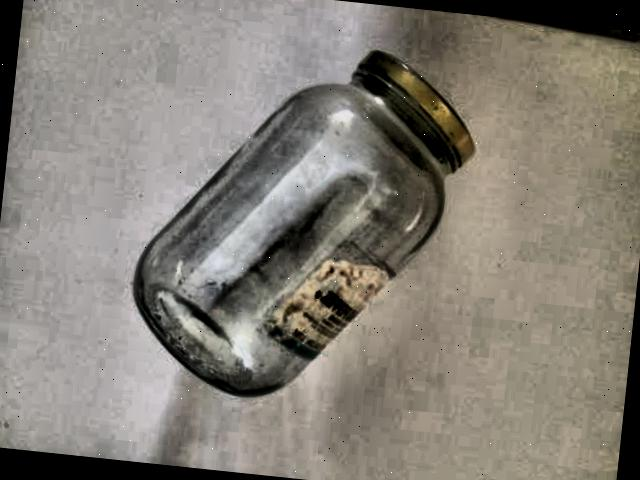Almennt: (120, 9, 503, 423)
